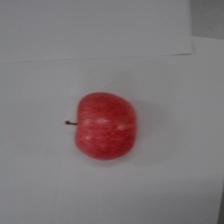red: (65, 90, 140, 163)
